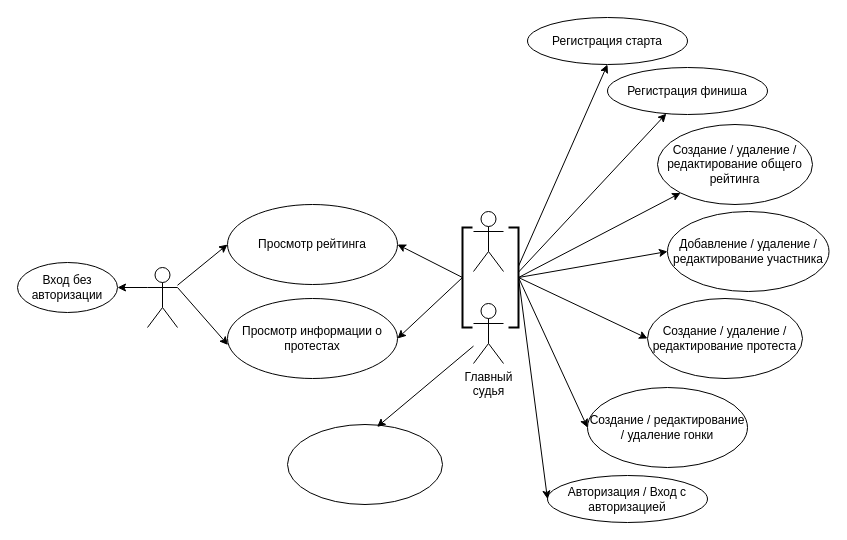
This 847x540 diagram has some shape labels left out. The centre of each missing label's shape, as x and y in pixels:
Зритель: pixel 162 297
Создание / удаление / редактирование профилей судей: pixel 364 464
Судья: pixel 488 241
